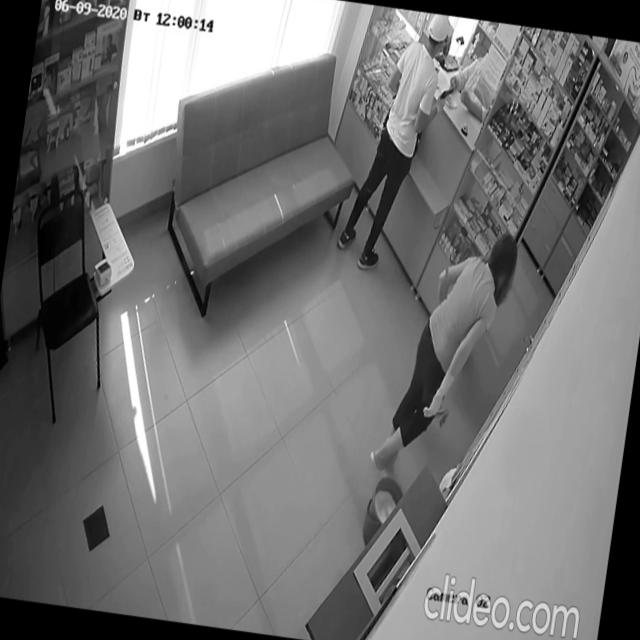gun: (439, 85, 456, 104)
person: (368, 216, 522, 492)
person with a gun: (334, 5, 466, 278)
